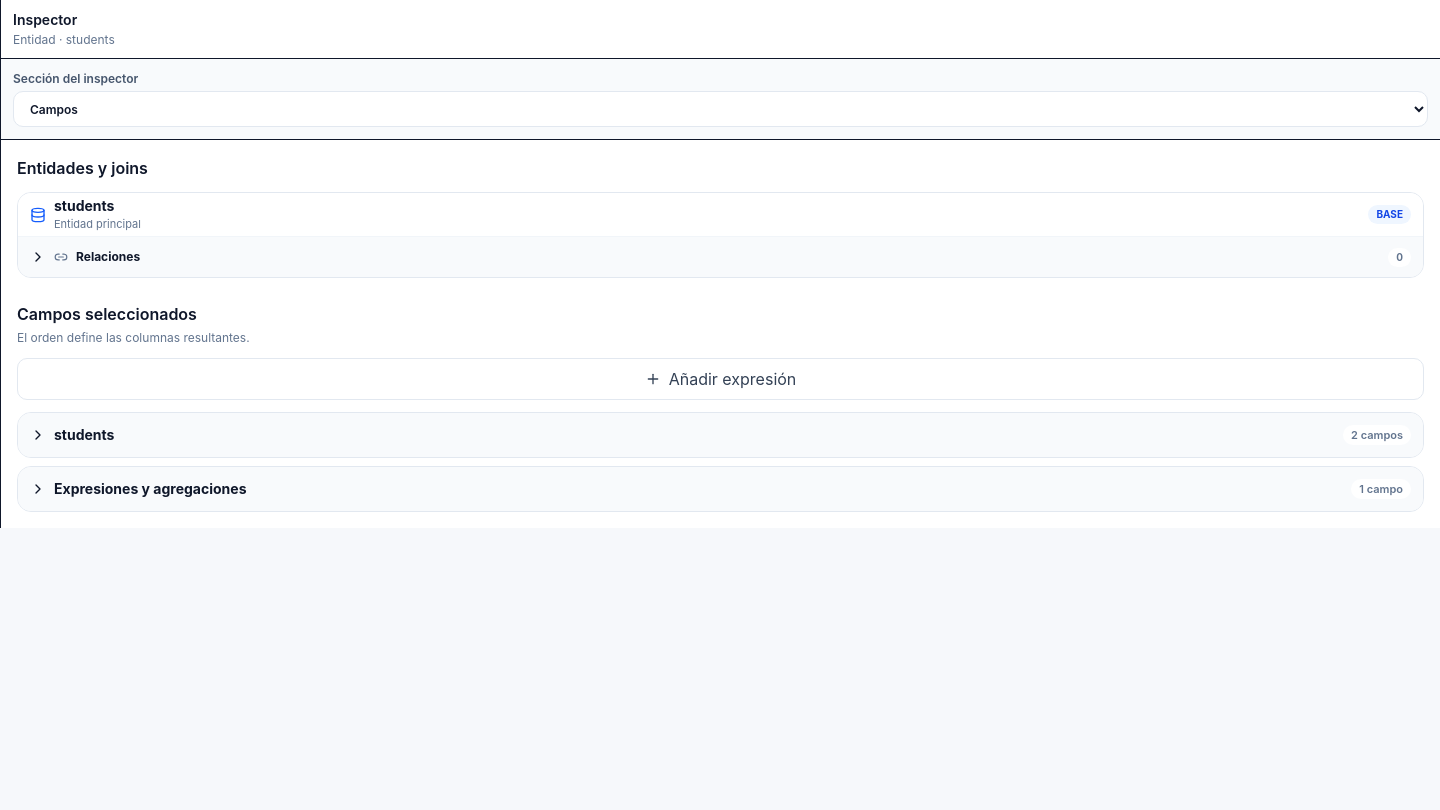
groups selected fields by source and keeps field settings collapsed
The width and height of the screenshot is (1440, 810).
Expected: the text "Entidad principal" is shown, left=54, top=217, right=141, bottom=231
Expected: the button "Expresiones y agregaciones 1 campo" is shown, left=18, top=467, right=1423, bottom=511
Click the button "students 2 campos": {"x": 84, "y": 434} left=18, top=413, right=1423, bottom=457
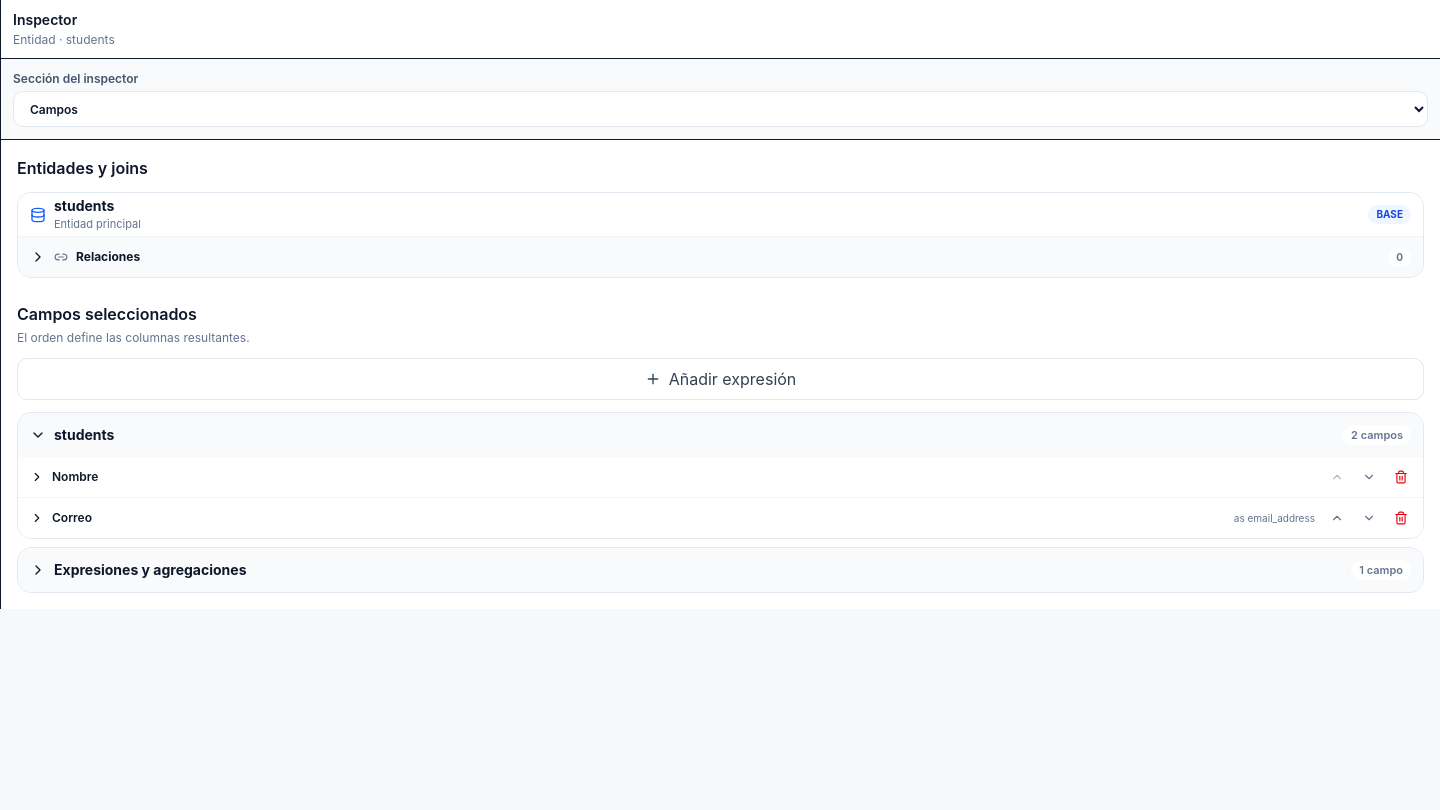
Expected: the text "Nombre" is shown, left=52, top=469, right=98, bottom=484
Expected: the text "as email_address" is shown, left=1234, top=510, right=1315, bottom=526
Click the button "Nombre": {"x": 75, "y": 476} left=26, top=465, right=1319, bottom=489
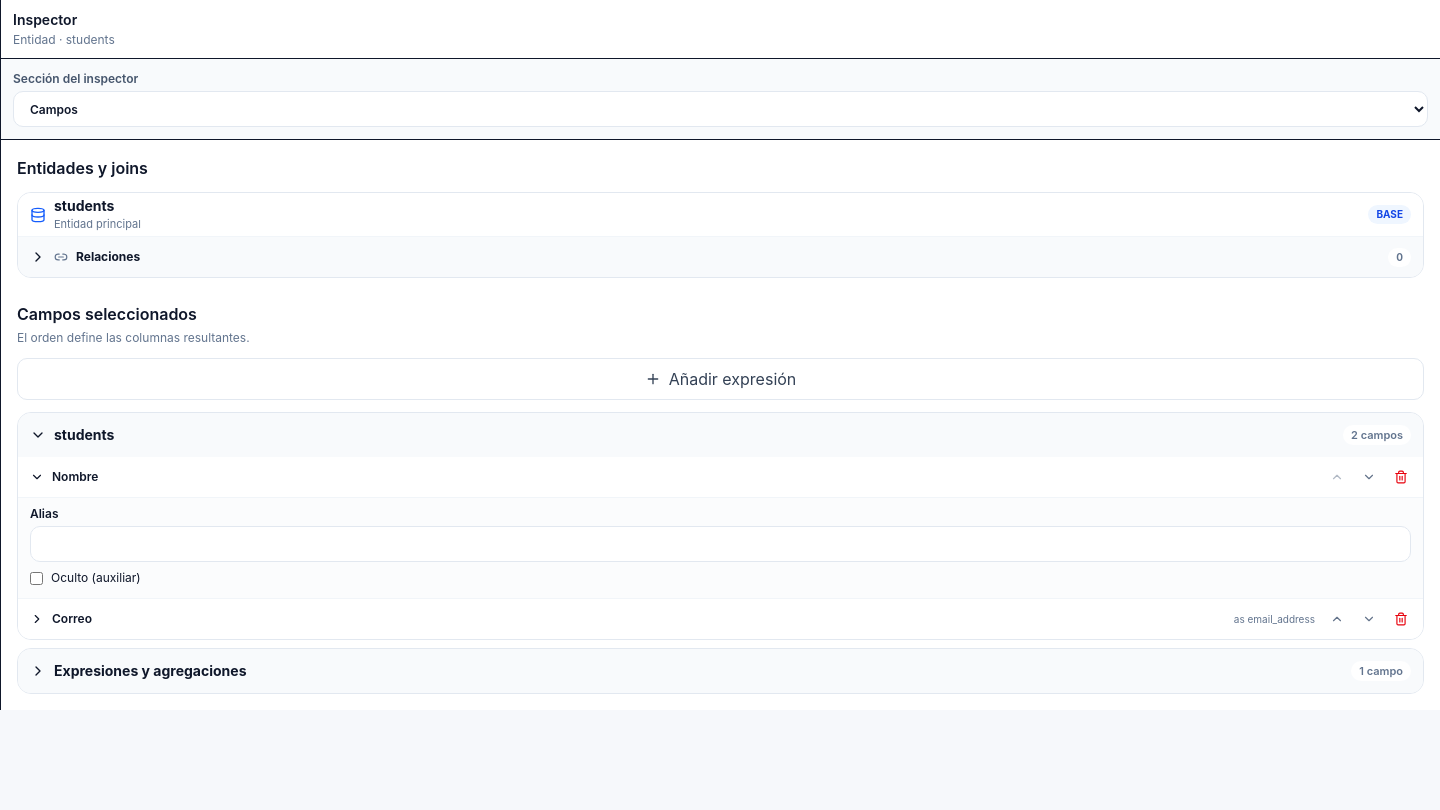
Expected: the field labelled "Alias" is shown, left=30, top=526, right=1411, bottom=562
